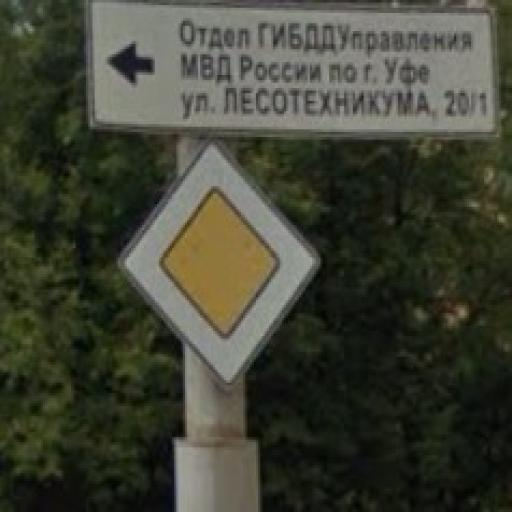traffic_sign: (115, 136, 326, 397)
